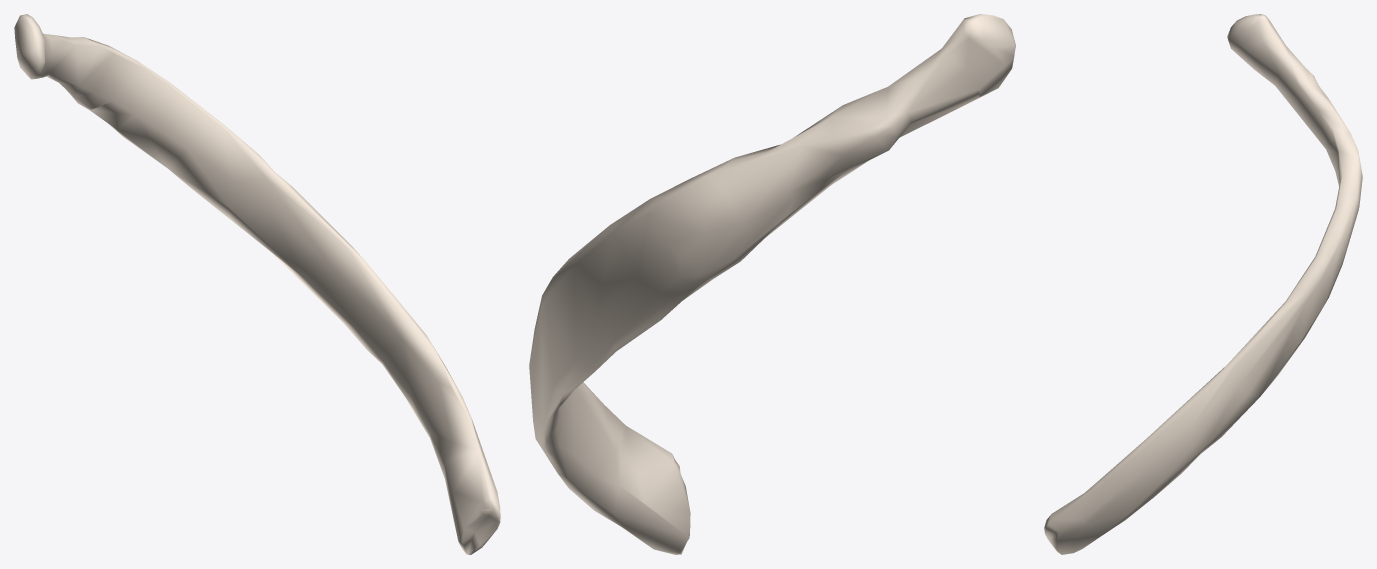
File: left_rib_10.glb
3 renders of one model, left to right at view 1: azimuth 30°, elevation 25°; view 2: azimuth 150°, elevation 25°; view 3: azimuth 270°, elevation 25°, orthographic. The views are drawn at different scales.
Visible parts, largest first — view 1: Rib (10th).r; view 2: Rib (10th).r; view 3: Rib (10th).r.
Boxes of the visible parts, x1,y1,x2,y2 form: Rib (10th).r: (14, 14, 500, 554); Rib (10th).r: (529, 14, 1015, 554); Rib (10th).r: (1044, 14, 1362, 554).
Bounding box in the file's own units: 0.1147 × 0.157 × 0.1089.
